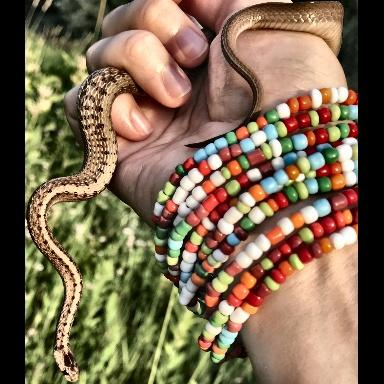snake: (27, 67, 151, 384), (222, 3, 344, 99)
